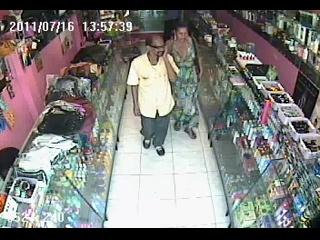Normal: (127, 34, 179, 157), (167, 21, 203, 138)
